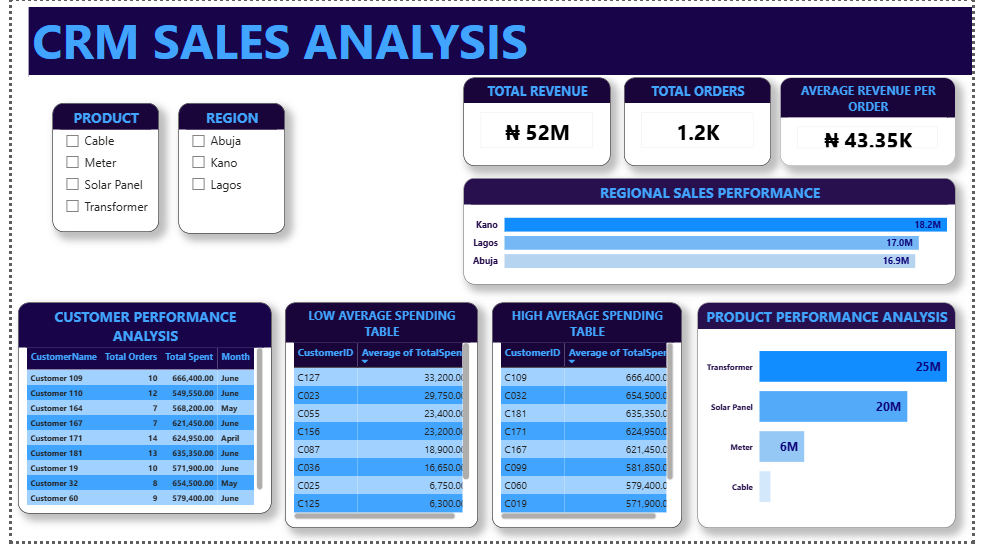

The page's visual inventory and layout, read from the dashboard file:
{"tool":"powerbi","page":{"name":"Page 1","canvas":[1280,720],"ordinal":0},"visuals":[{"type":"cardVisual","title":"TOTAL REVENUE","fields":{"Data":["Sum(Sales Transactions.Revenue)"]},"box":[602,102,196,118],"z":0},{"type":"cardVisual","title":"TOTAL ORDERS","fields":{"Data":["CountNonNull(Sales Transactions.OrderID)"]},"box":[816,102,196,118],"z":1000},{"type":"cardVisual","title":"AVERAGE REVENUE PER ORDER","fields":{"Data":["Avg(Sales Transactions.Revenue)"]},"box":[1024,102,234,118],"z":2000},{"type":"clusteredBarChart","title":"REGIONAL SALES PERFORMANCE","fields":{"Category":["Sales Transactions.Region"],"Y":["Sum(Sales Transactions.Revenue)"]},"box":[602,236,656,142],"z":3000},{"type":"barChart","title":"PRODUCT PERFORMANCE ANALYSIS","fields":{"Category":["Sales Transactions.Product"],"Y":["Sum(Sales Transactions.Revenue)"]},"box":[914.7,402.5,343.9,300.5],"z":4000},{"type":"tableEx","title":"CUSTOMER PERFORMANCE ANALYSIS","fields":{"Values":["Customers.CustomerName","Sum(Customers.TotalOrders)","select","Sum(Customers.TotalSpent)","Customers.LastPurchaseDate.Variation.Date Hierarchy.Month"]},"box":[7.6,402.5,338.3,281.6],"z":5000},{"type":"textbox","title":"CRM SALES  ANALYSIS","box":[21.9,8,1258.8,93.6],"z":6000},{"type":"tableEx","title":"HIGH AVERAGE SPENDING TABLE","fields":{"Values":["Customers.CustomerID","Avg(Customers.TotalSpent)"]},"box":[640.6,402.5,253.2,300.5],"z":7000},{"type":"tableEx","title":"LOW AVERAGE SPENDING TABLE","fields":{"Values":["Customers.CustomerID","Avg(Customers.TotalSpent)"]},"box":[364.7,402.5,257,300.5],"z":8000},{"type":"slicer","title":"REGION","fields":{"Values":["Sales Transactions.Region"]},"box":[222,136,142,174],"z":9000},{"type":"slicer","title":"PRODUCT","fields":{"Values":["Sales Transactions.Product"]},"box":[54,136,142,172],"z":10000}]}

Visuals, with their boxes in screenshot pixels (x1, y1, x2, y2), scaled from the page's 1280x720 canvas onto the 985x549 screenshot:
"TOTAL REVENUE" cardVisual: <region>463, 78, 614, 168</region>
"TOTAL ORDERS" cardVisual: <region>628, 78, 779, 168</region>
"AVERAGE REVENUE PER ORDER" cardVisual: <region>788, 78, 968, 168</region>
"REGIONAL SALES PERFORMANCE" clusteredBarChart: <region>463, 180, 968, 288</region>
"PRODUCT PERFORMANCE ANALYSIS" barChart: <region>704, 307, 969, 536</region>
"CUSTOMER PERFORMANCE ANALYSIS" tableEx: <region>6, 307, 266, 522</region>
"CRM SALES  ANALYSIS" textbox: <region>17, 6, 984, 77</region>
"HIGH AVERAGE SPENDING TABLE" tableEx: <region>493, 307, 688, 536</region>
"LOW AVERAGE SPENDING TABLE" tableEx: <region>281, 307, 478, 536</region>
"REGION" slicer: <region>171, 104, 280, 236</region>
"PRODUCT" slicer: <region>42, 104, 151, 235</region>
